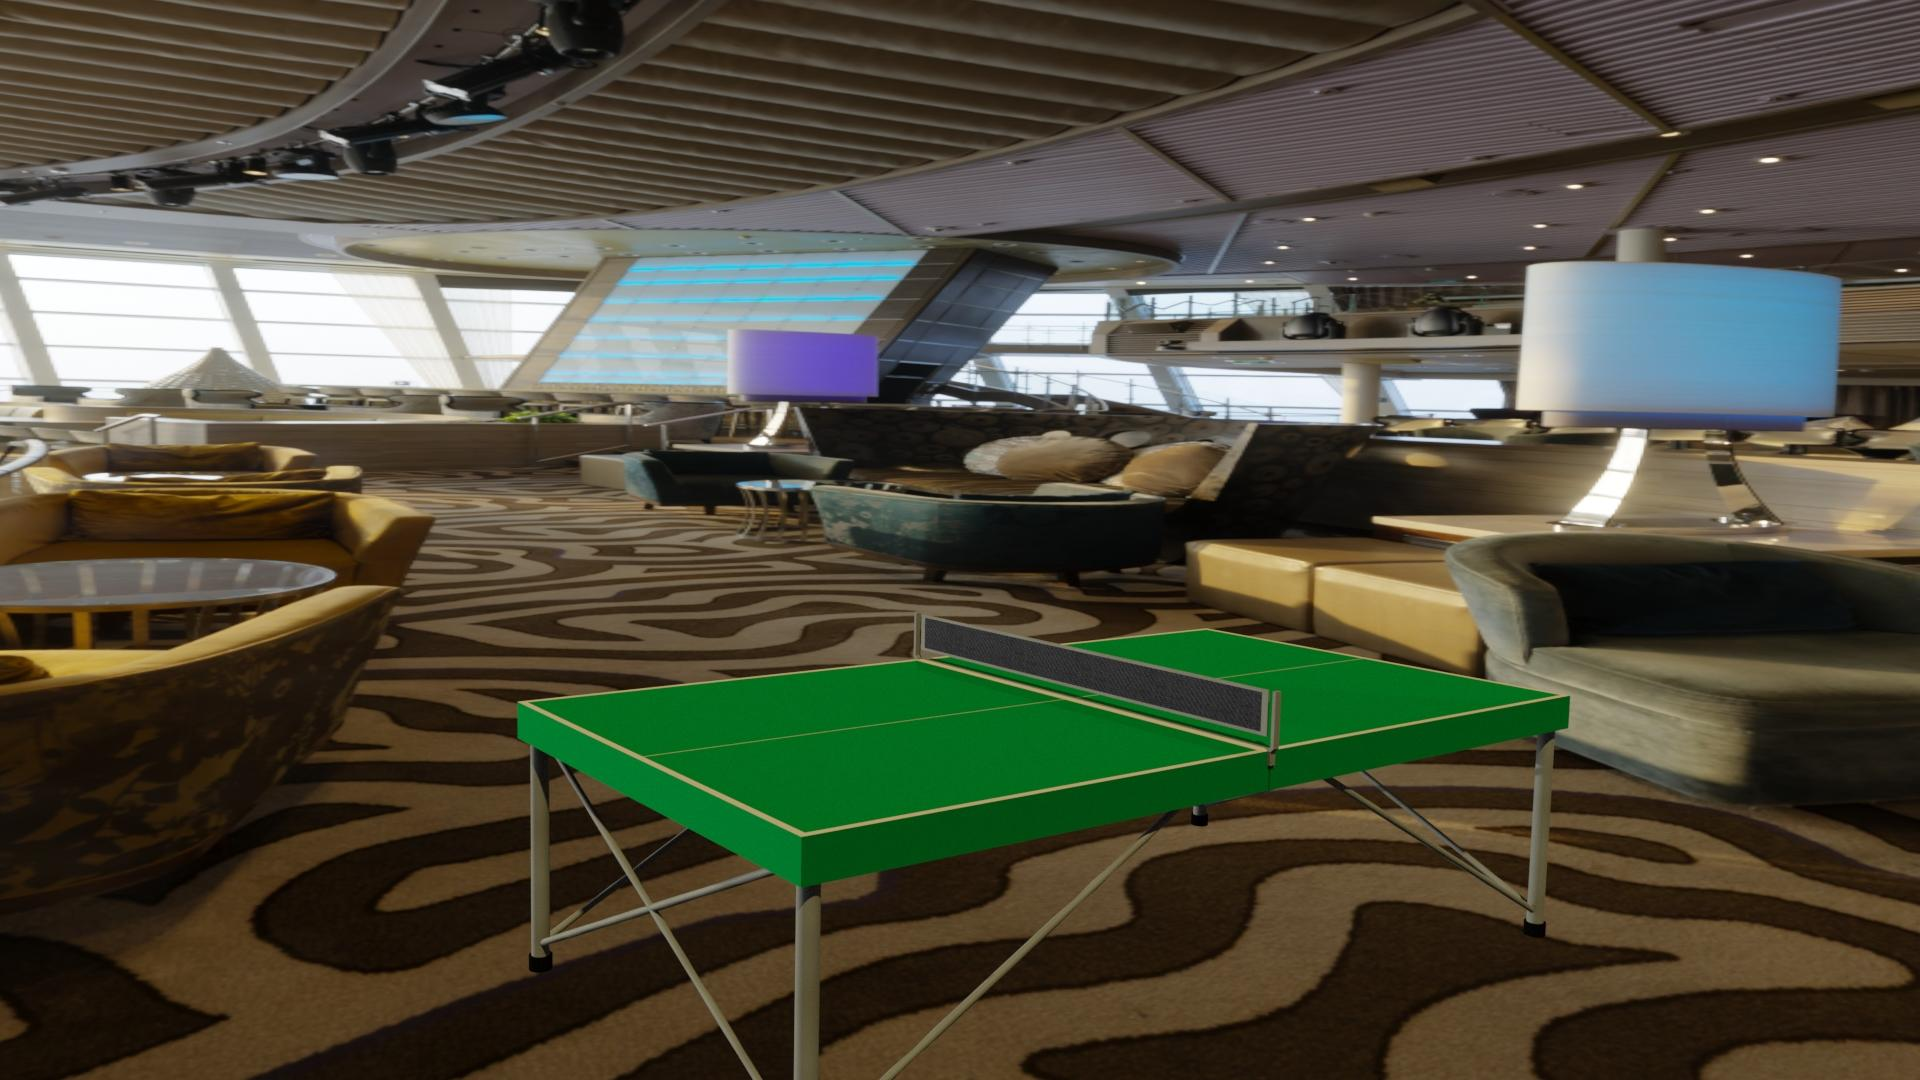table: (527, 629, 1561, 833)
